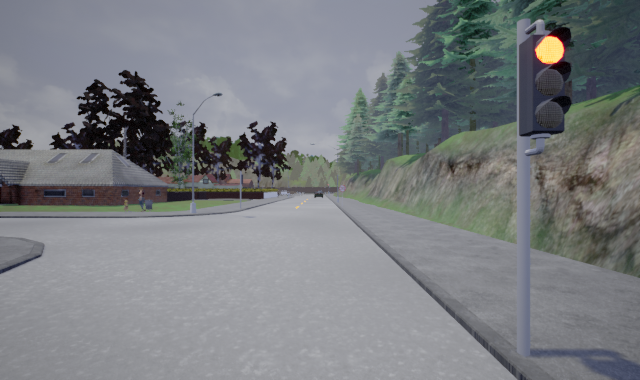pedestrian: (134, 185, 150, 212), (121, 196, 130, 213)
